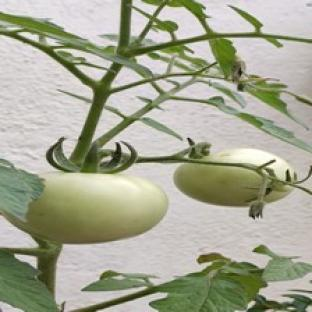Tomato: (5, 172, 168, 243), (201, 148, 295, 181)
